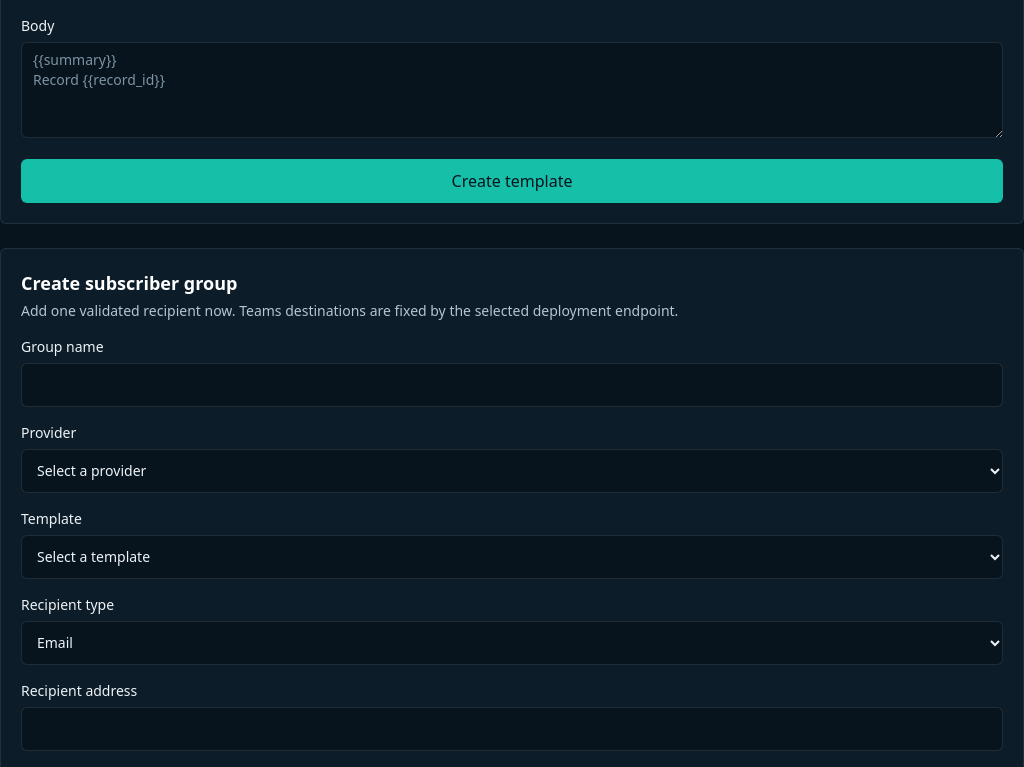
Test: derives the exact Teams recipient from safe endpoint metadata
The image size is (1024, 767).
(page scrolled)
Step 1. Type "Operations team" into the field labelled "Group name" → (512, 384), box [21,362,1003,406]
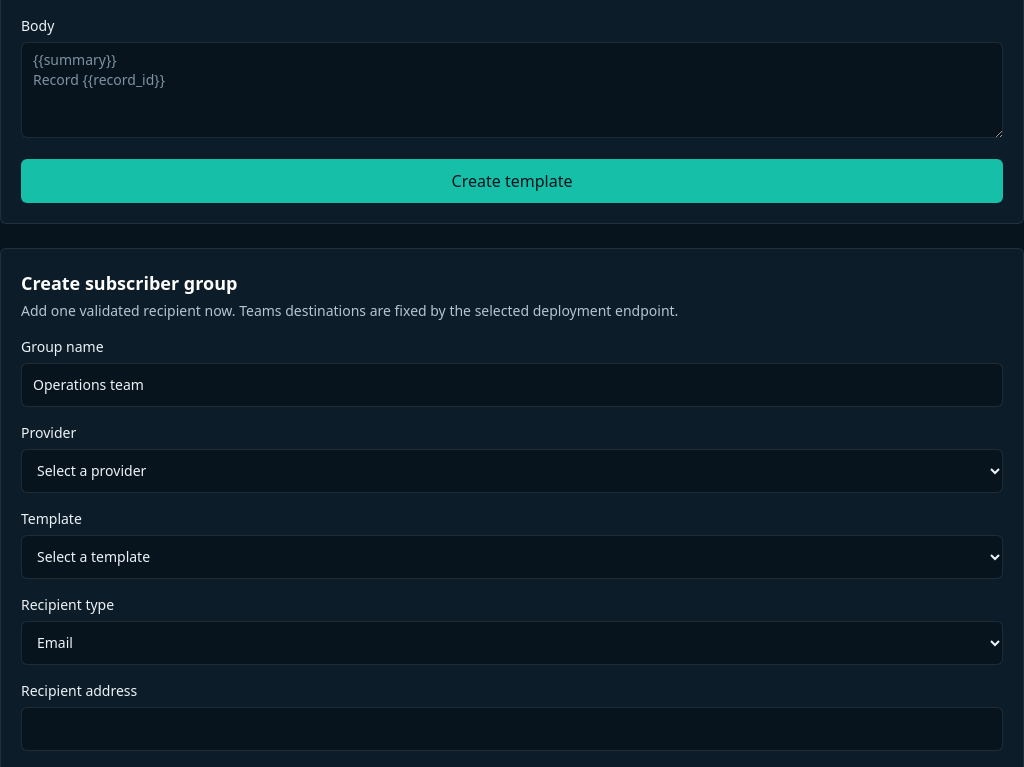
Step 2. Select "Operations Teams" in the dropdown labelled "Provider" → (512, 470), box [21,448,1003,492]
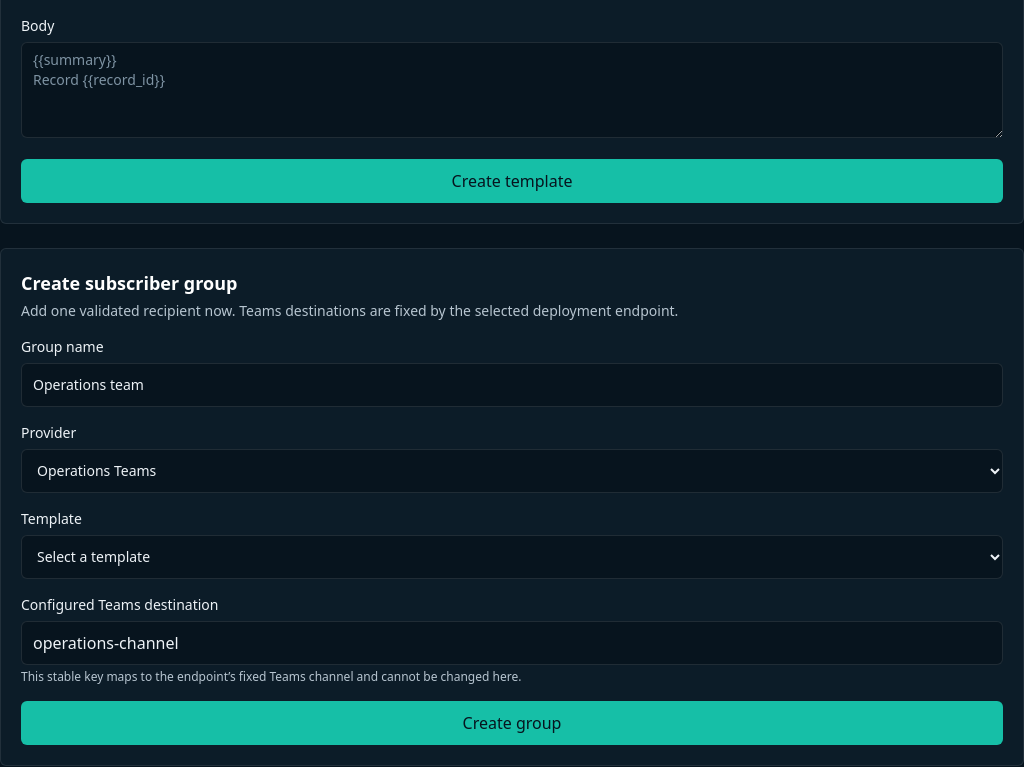
Step 3. Select "Signal alert" in the dropdown labelled "Template" → (512, 556), box [21,534,1003,578]
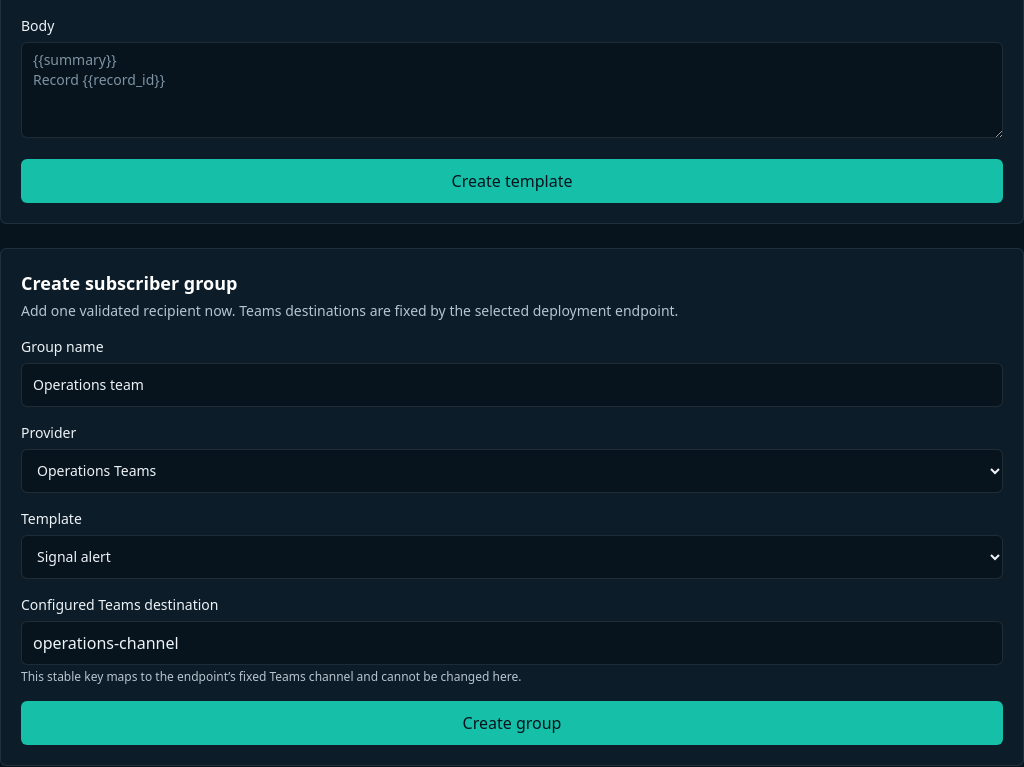
expect the label labelled "Recipient address" is not shown: met
expect the field labelled "Configured Teams destination" holds "operations-channel": met, box [21,620,1003,664]
Step 4. Click the button "Create group" → click(512, 722), box [21,700,1003,744]
(page scrolled)
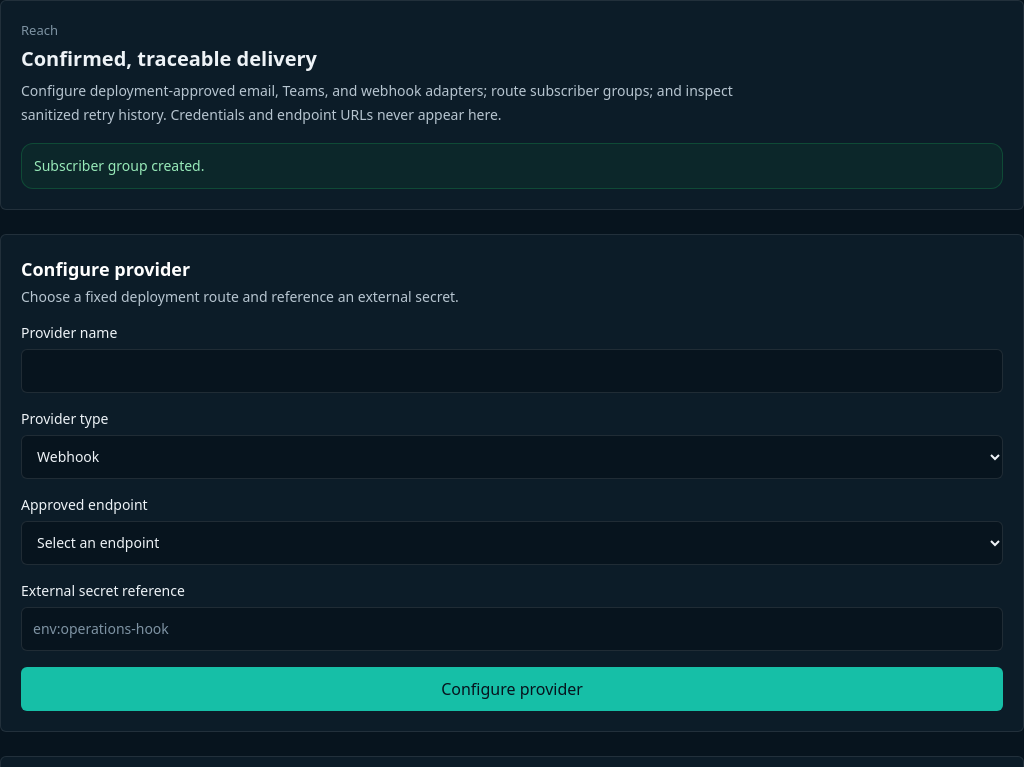
expect the text "Subscriber group created." is shown: met, box [21,142,1003,188]
